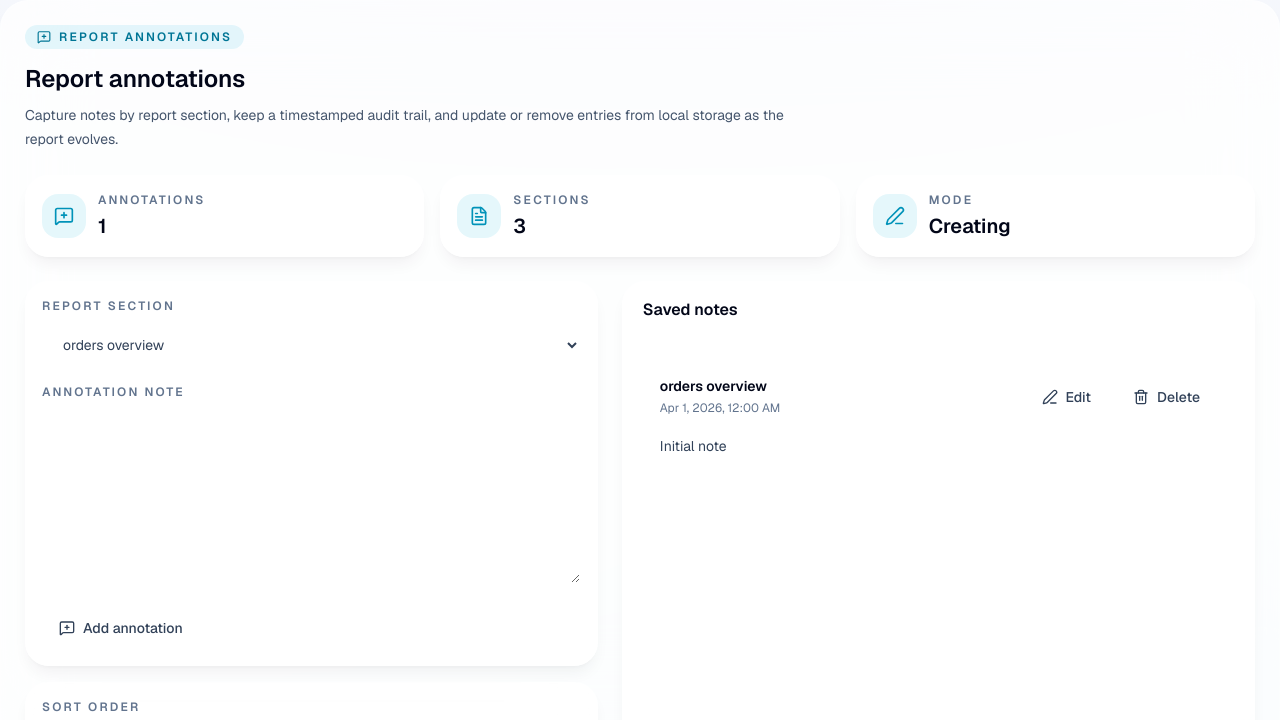
Test case: ReportAnnotations › edits an existing annotation
Click the button "Edit". click: (1066, 397)
box: [1025, 376, 1108, 418]
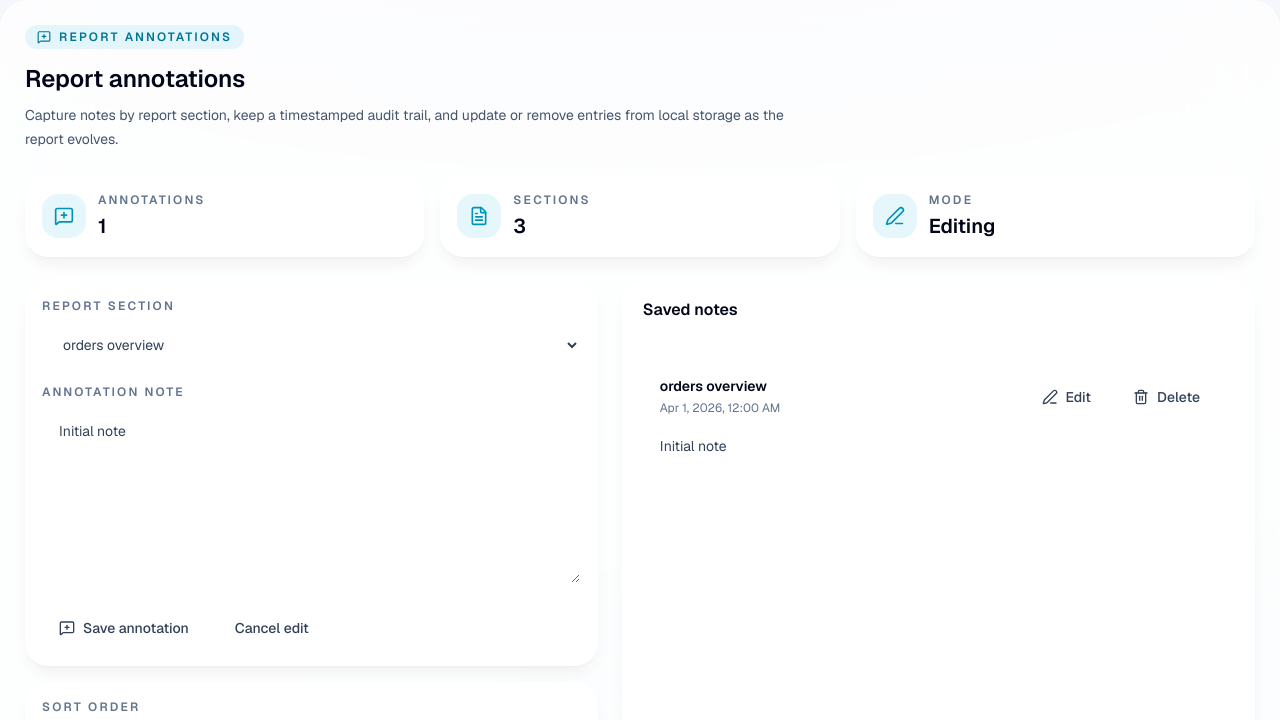
Replace the text in the text box labelled "Annotation note" with "Updated note". click: (311, 496)
box: [42, 408, 581, 584]
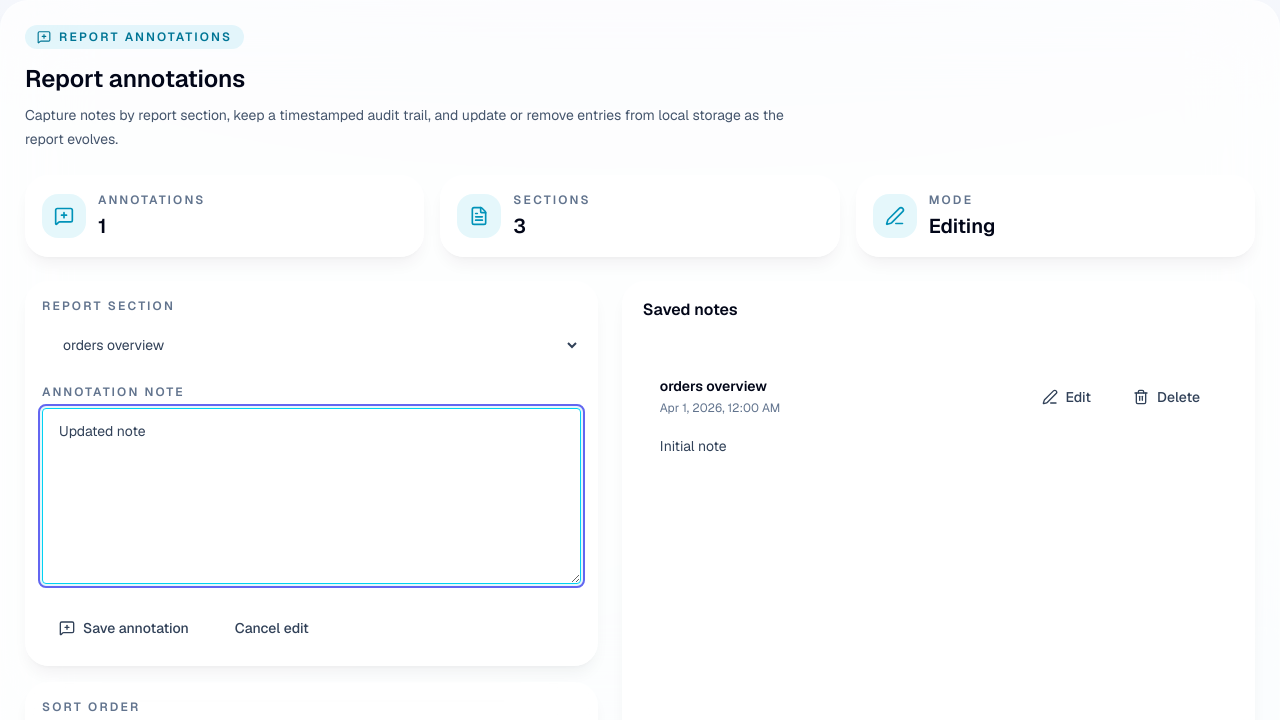
Click the button "Save annotation". click: (124, 628)
box: [42, 607, 206, 649]
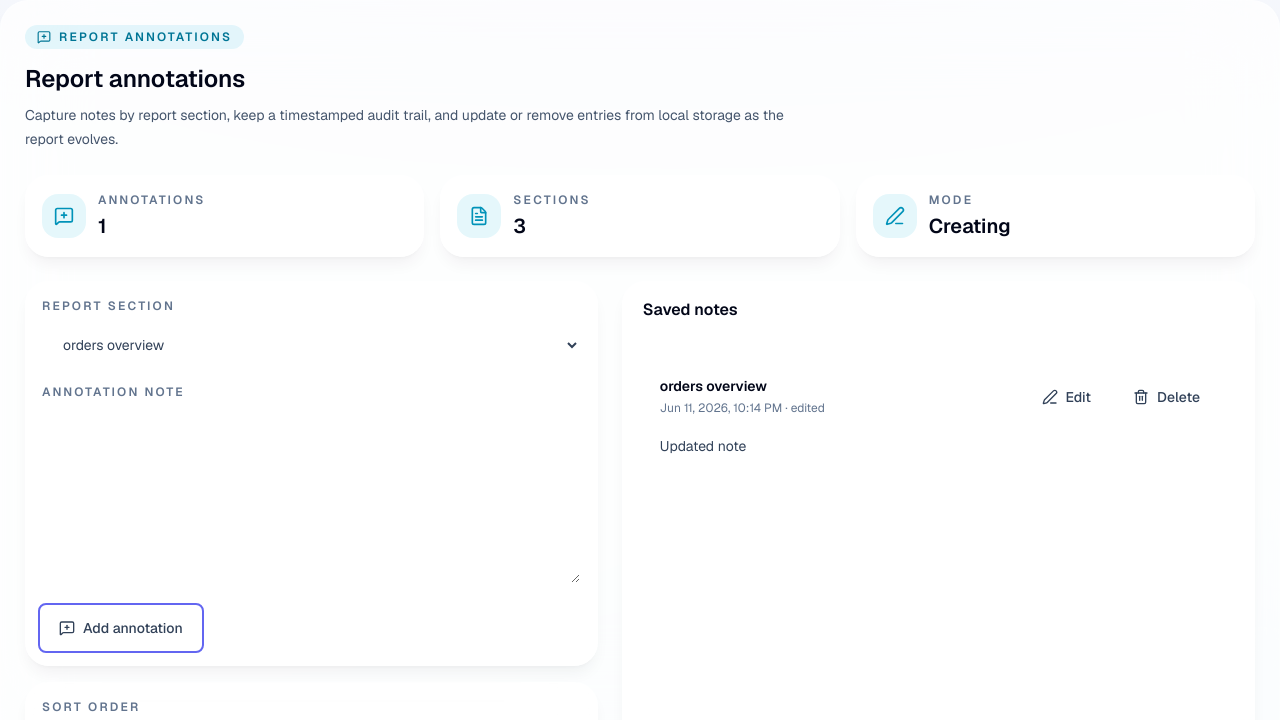
Now the text "Updated note" is shown, box [660, 437, 746, 455]
